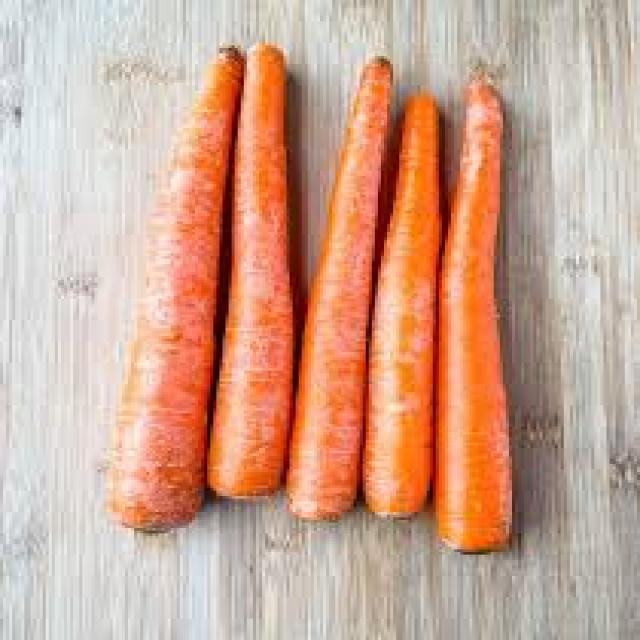Carrot: (368, 72, 446, 546)
